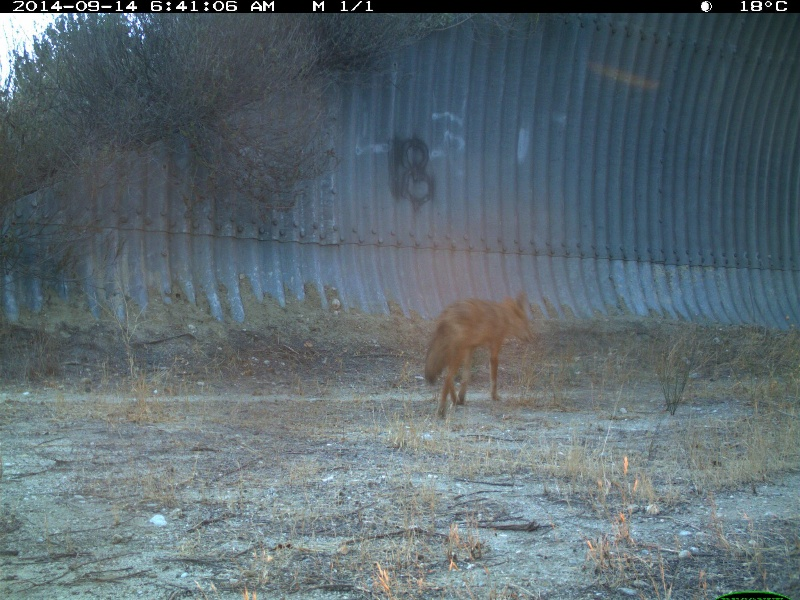coyote: (420, 288, 539, 419)
